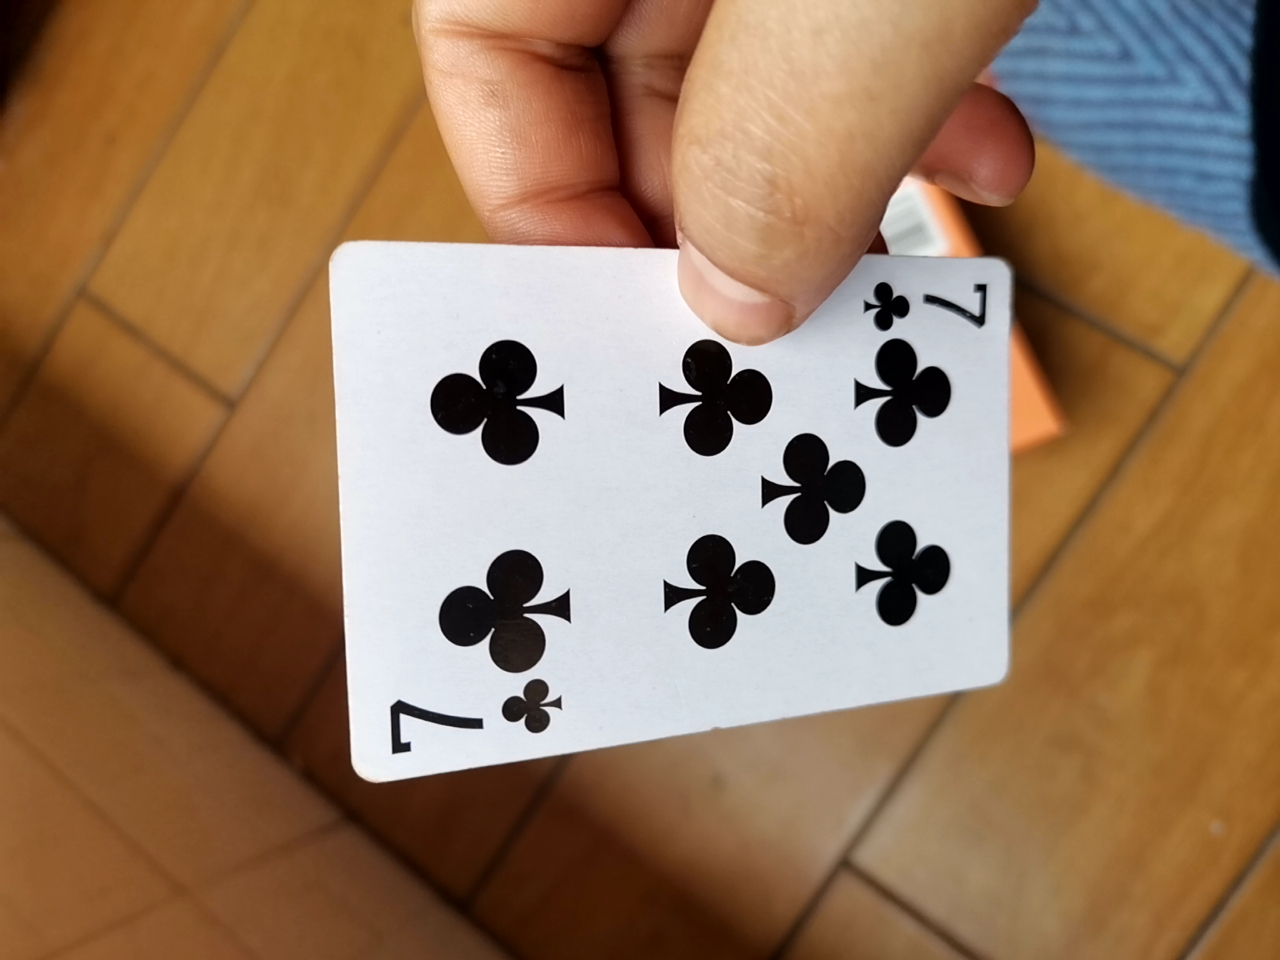mh 7: (300, 230, 1016, 803)
